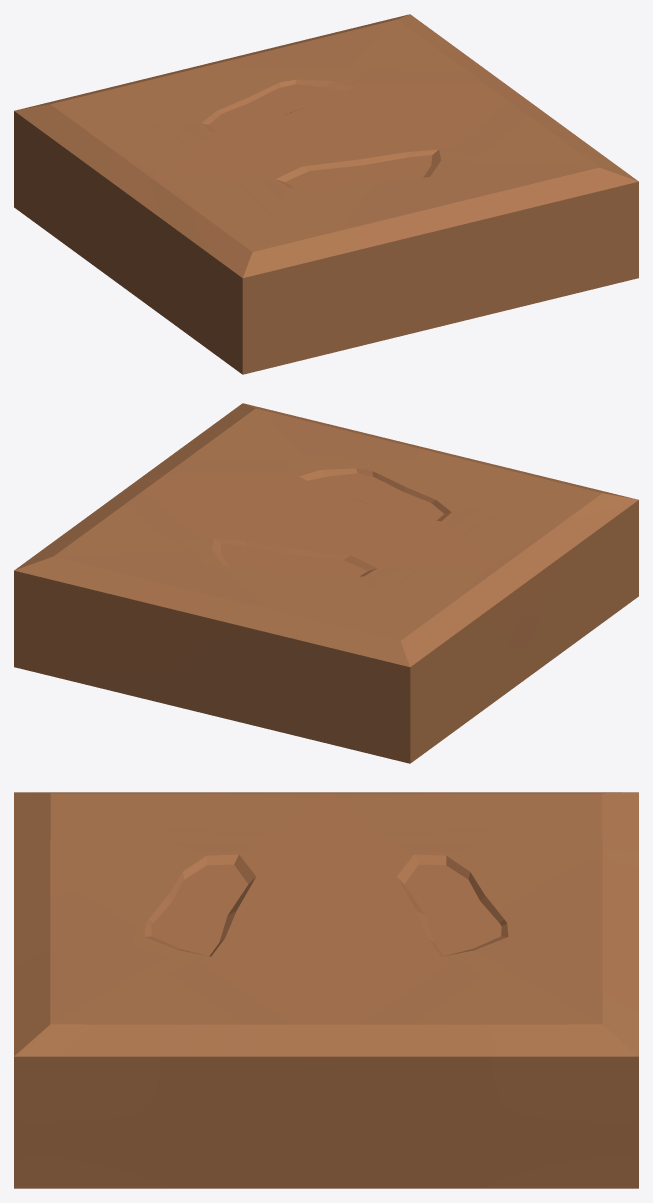
Rendered from lvl1_P_switch1.glb.
The picture shows the model from 3 angles, top to bottom: view 1: azimuth 30°, elevation 25°; view 2: azimuth 150°, elevation 25°; view 3: azimuth 270°, elevation 25°; orthographic projection. The views are drawn at different scales.
Visible parts, largest first — view 1: lvl1_p_switch1; view 2: lvl1_p_switch1; view 3: lvl1_p_switch1.
Part boxes in pixels (x1,y1,x2,y2): lvl1_p_switch1: [14, 14, 638, 374]; lvl1_p_switch1: [14, 403, 638, 763]; lvl1_p_switch1: [14, 792, 638, 1188].
Bounding box in the file's own units: 0.8719 × 0.2256 × 0.8719.
1 material, 1 textured.
